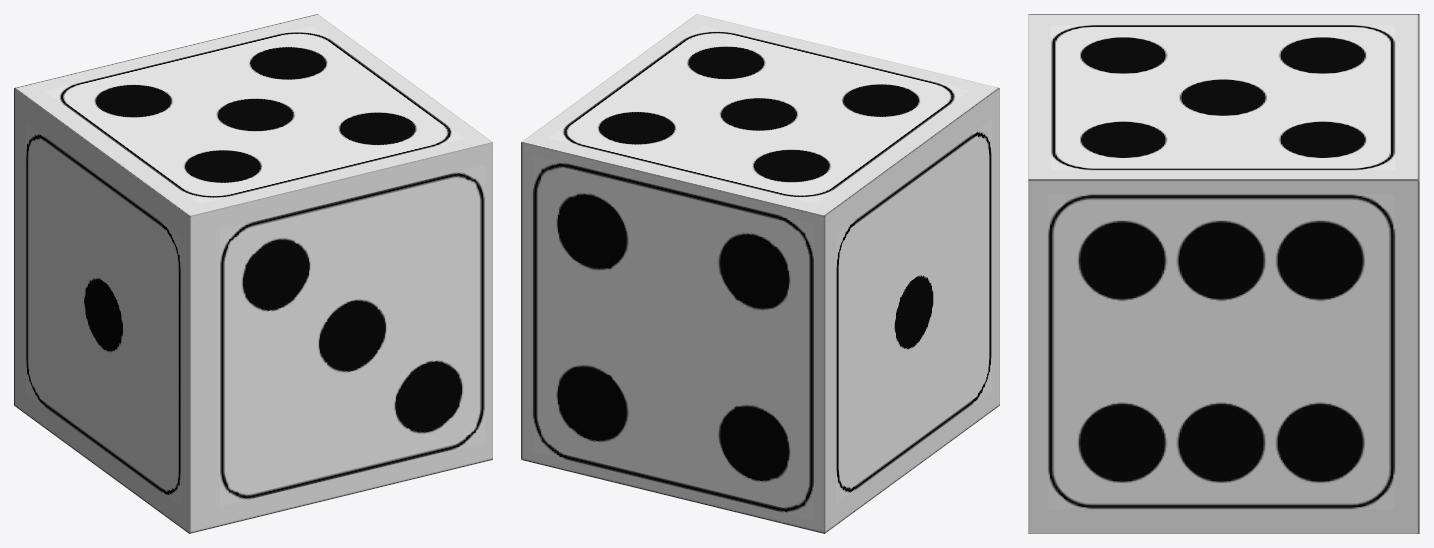
Rendered from dice2.obj.
The picture shows the model from 3 angles, left to right: view 1: azimuth 30°, elevation 25°; view 2: azimuth 150°, elevation 25°; view 3: azimuth 270°, elevation 25°; orthographic projection. The views are drawn at different scales.
Parts seen in each view (by area): view 1: Cube.001; view 2: Cube.001; view 3: Cube.001.
Part boxes in pixels (x1,y1,x2,y2): Cube.001: (14,14,492,533); Cube.001: (521,14,999,533); Cube.001: (1028,14,1419,533).
Bounding box in the file's own units: 2 × 2 × 2.
2 materials, 1 textured.
